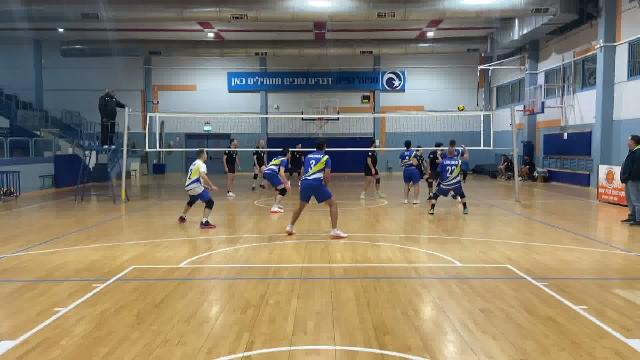ball: (458, 104, 465, 113)
